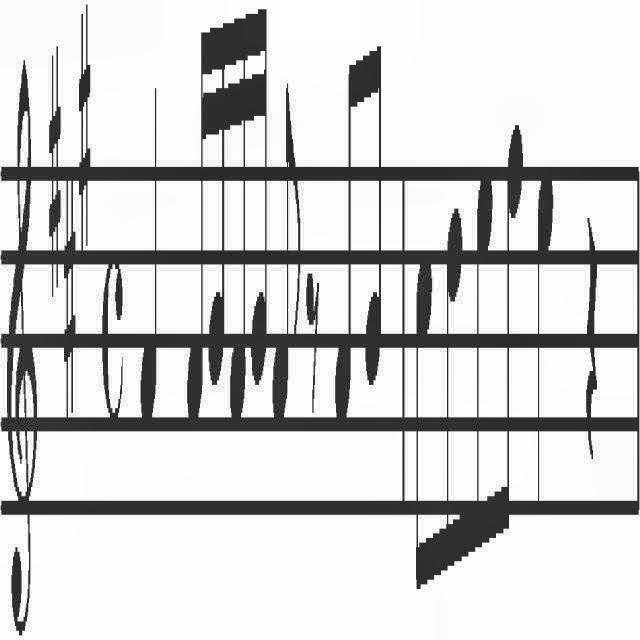Bass-clef: (7, 52, 37, 640)
Diez: (47, 46, 61, 298), (78, 4, 90, 254), (64, 174, 76, 420)
Eighth-note: (496, 124, 524, 576), (272, 75, 302, 433), (472, 161, 493, 585), (440, 209, 462, 596), (335, 48, 355, 448), (364, 16, 384, 404), (415, 250, 433, 618)
Eighth-rest: (305, 258, 319, 424)
Quarter-note: (536, 165, 554, 527), (140, 75, 158, 433)
Quarter-rest: (584, 210, 598, 472)
Sixteenth-note: (250, 1, 270, 416), (229, 0, 247, 442), (208, 11, 228, 393), (187, 24, 206, 424)
